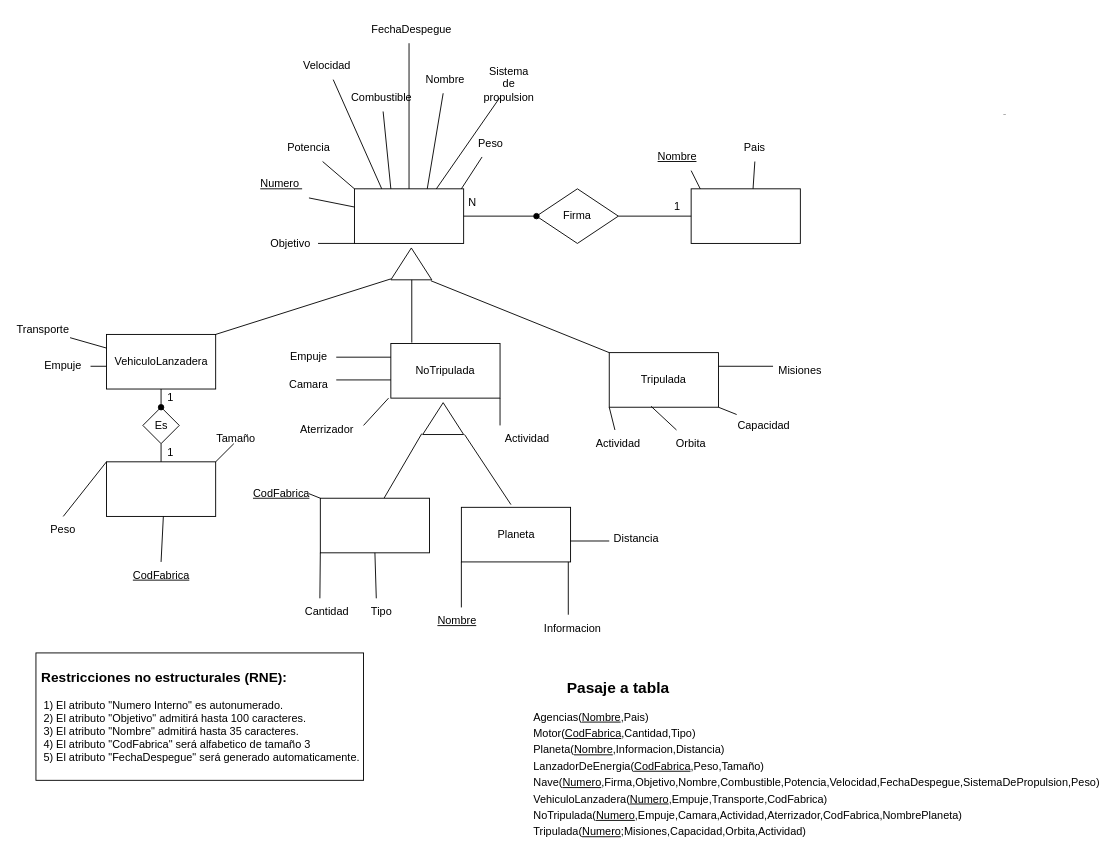
Some shapes in this 1116 by 854 pixel diagram are drawn without their labels. Each missing label, with the centre of its shape:
"Agencia" goes at point (745, 215).
"LanzadorDeEnergia" goes at point (161, 488).
"Motor" goes at point (374, 525).
"Nave" goes at point (409, 215).
